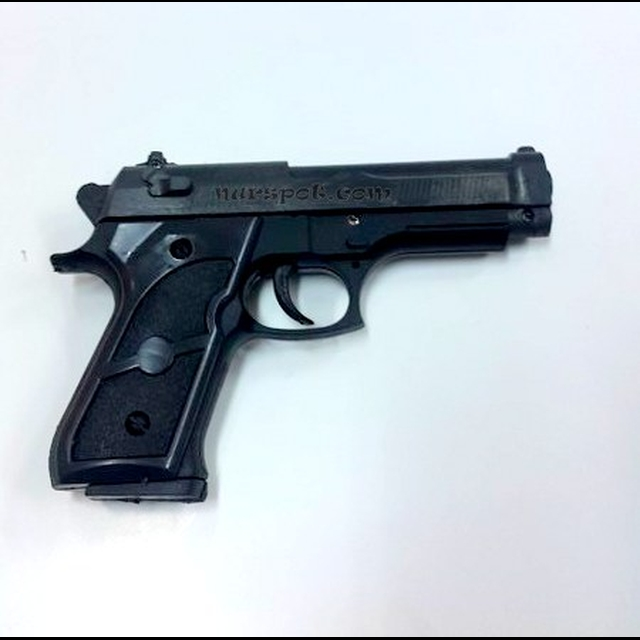SILAH: (43, 149, 558, 504)
